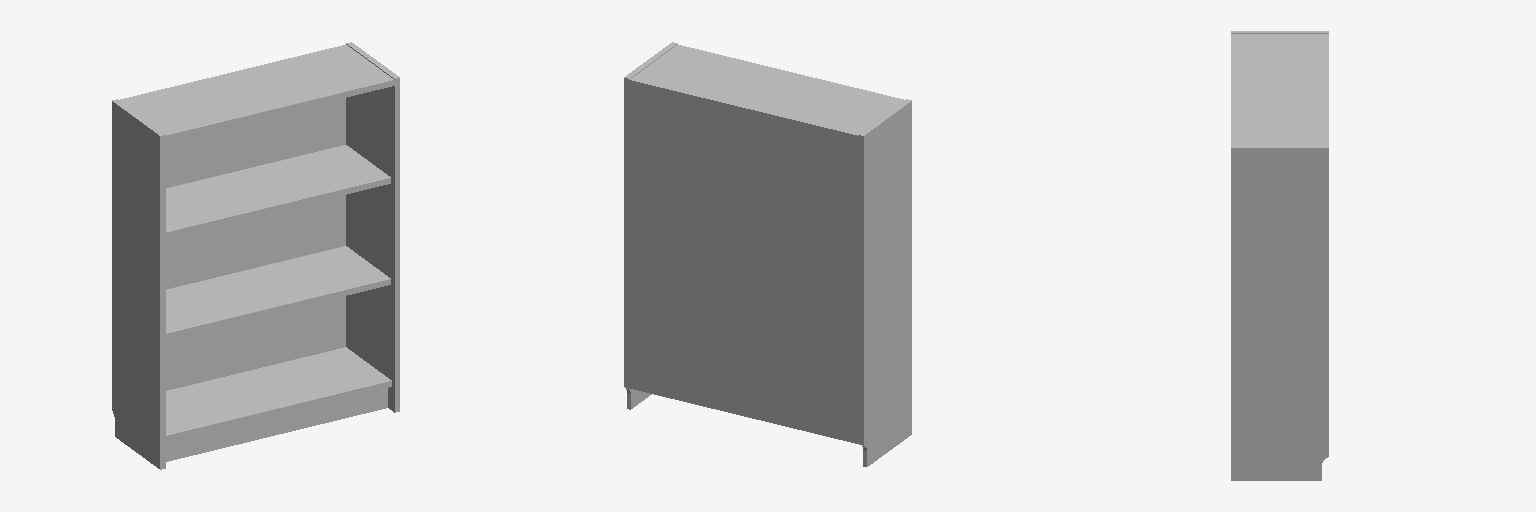
Rendered from bookshelf2.obj.
3 renders of one model, left to right at view 1: azimuth 30°, elevation 25°; view 2: azimuth 150°, elevation 25°; view 3: azimuth 270°, elevation 25°, orthographic.
Parts seen in each view (by area): view 1: bookshelf2; view 2: bookshelf2; view 3: bookshelf2.
Boxes of the visible parts, box(x1,y1,x2,y2) form: bookshelf2: box(112, 42, 399, 469); bookshelf2: box(624, 42, 911, 466); bookshelf2: box(1231, 31, 1328, 480).
Size of the model in its own units: 1.25 by 1.66 by 0.4363.